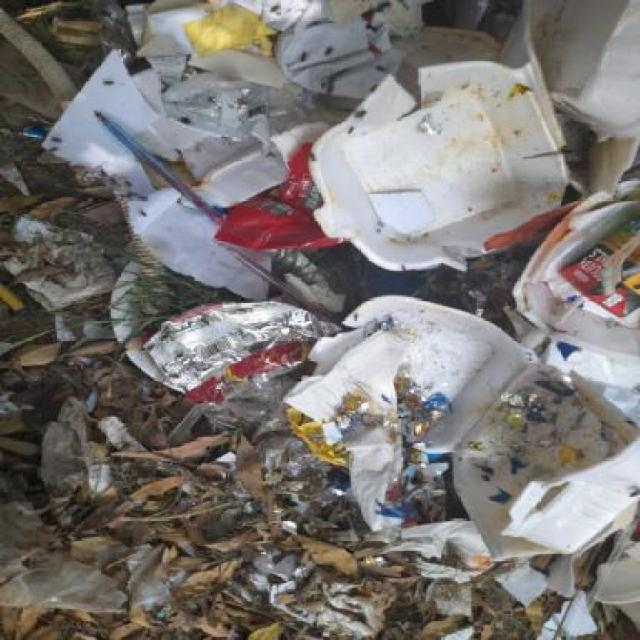garbage: (2, 0, 636, 639)
